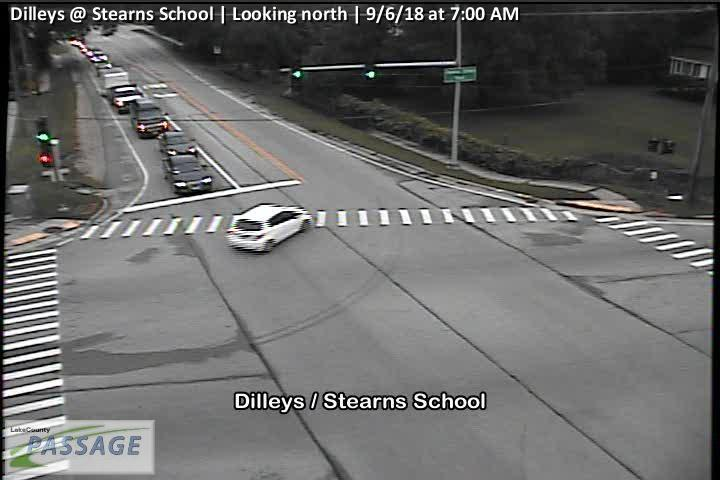SUV: (225, 204, 315, 253), (129, 97, 170, 141)
Sedan: (162, 155, 212, 194), (157, 130, 198, 157), (111, 85, 143, 115)
